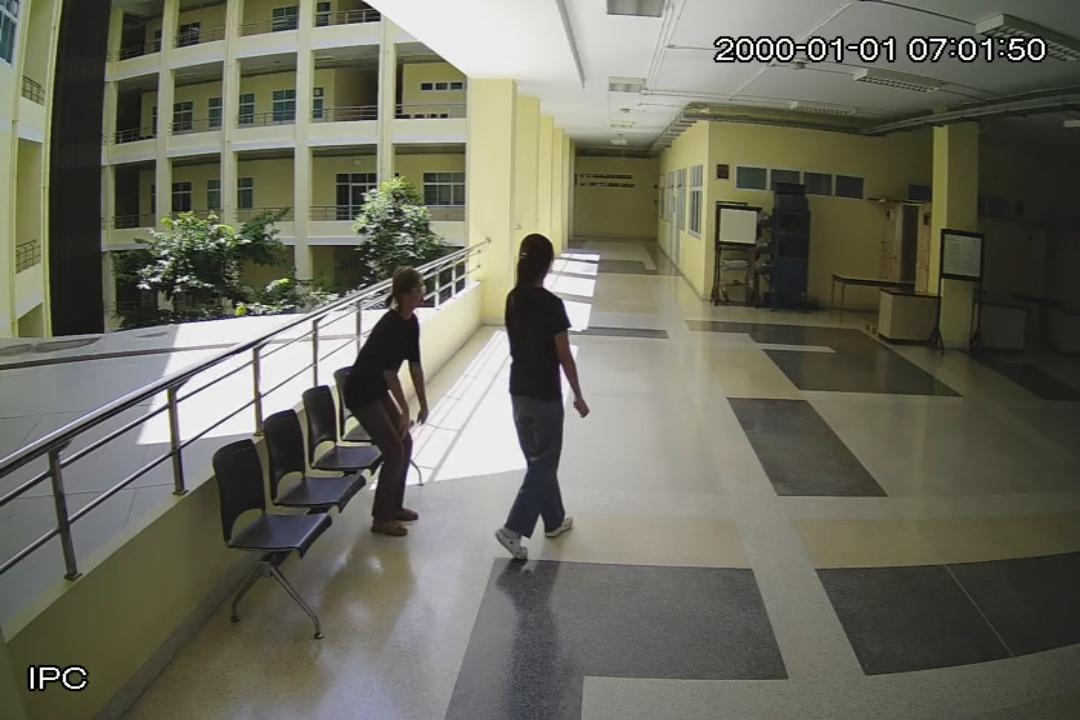normal: (493, 231, 591, 563), (346, 267, 430, 536)
